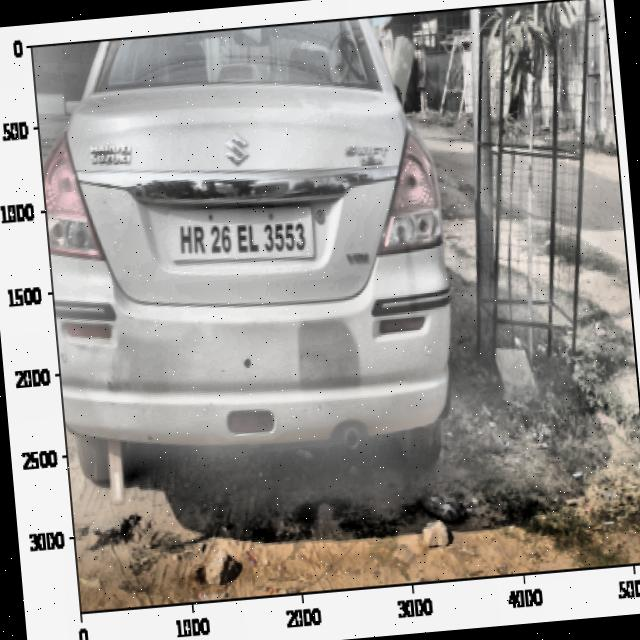license_plate: (170, 205, 311, 270)
